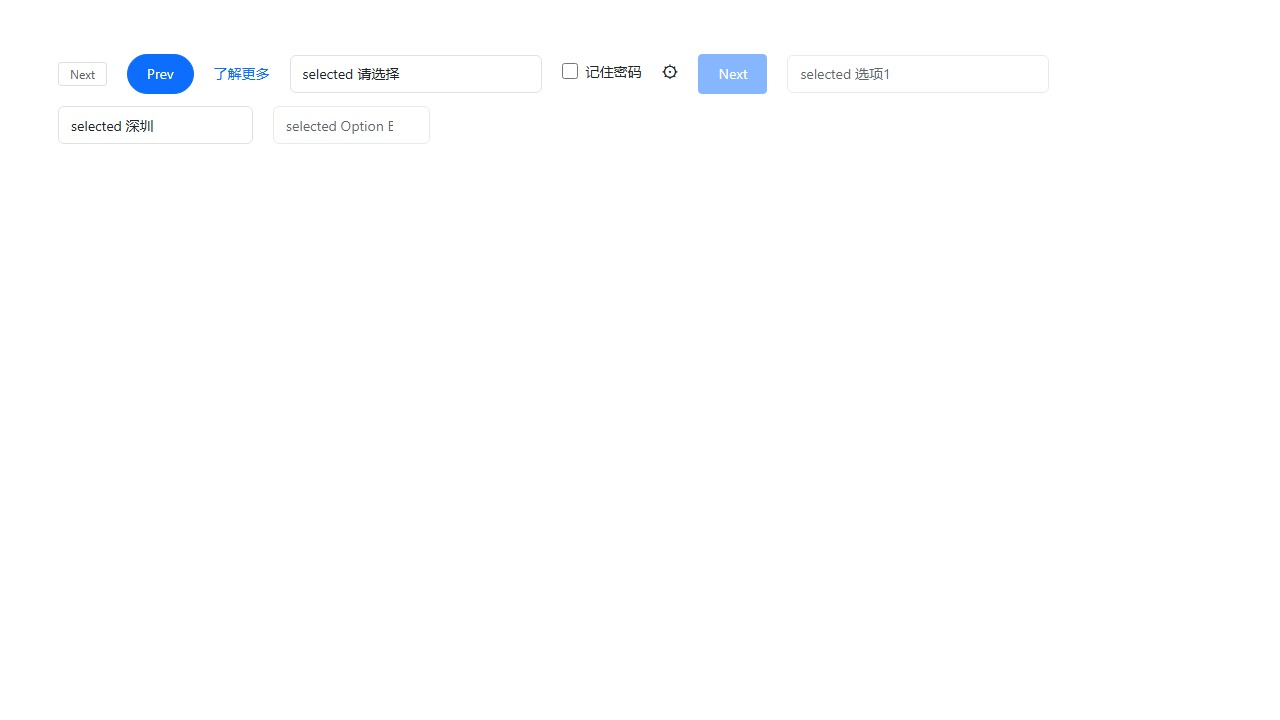button: (698, 54, 767, 94), (127, 54, 194, 94), (58, 62, 107, 86)
checkbox: (562, 63, 578, 79)
icon: (586, 61, 642, 80), (662, 61, 678, 81)
link: (214, 64, 270, 83)
radio: (562, 61, 642, 80)
select: (787, 54, 1049, 92), (290, 54, 542, 92), (58, 106, 253, 144), (273, 106, 430, 144)
